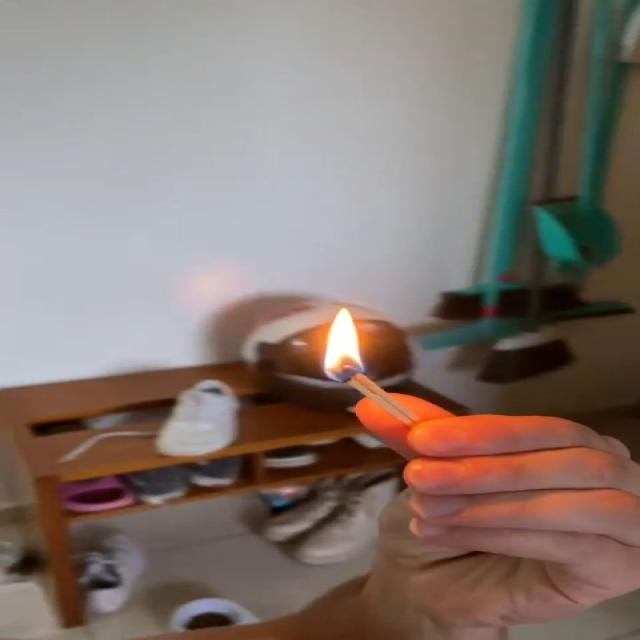fogo-ypXI: (321, 305, 366, 383)
